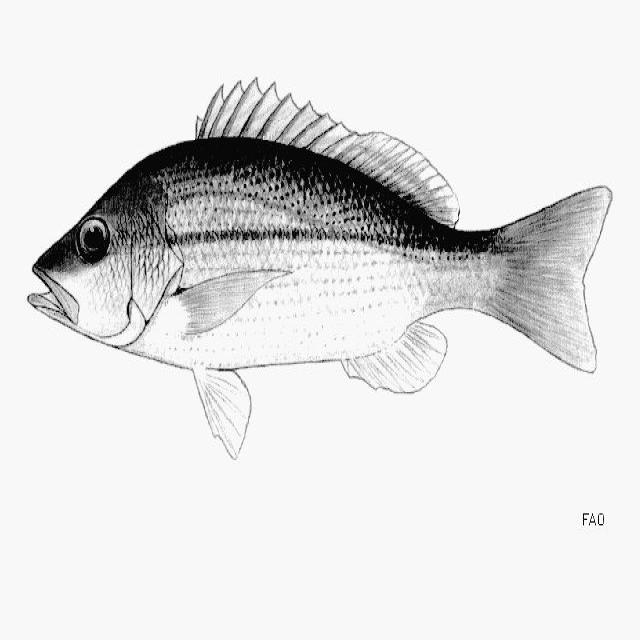ikan: (27, 74, 613, 458)
